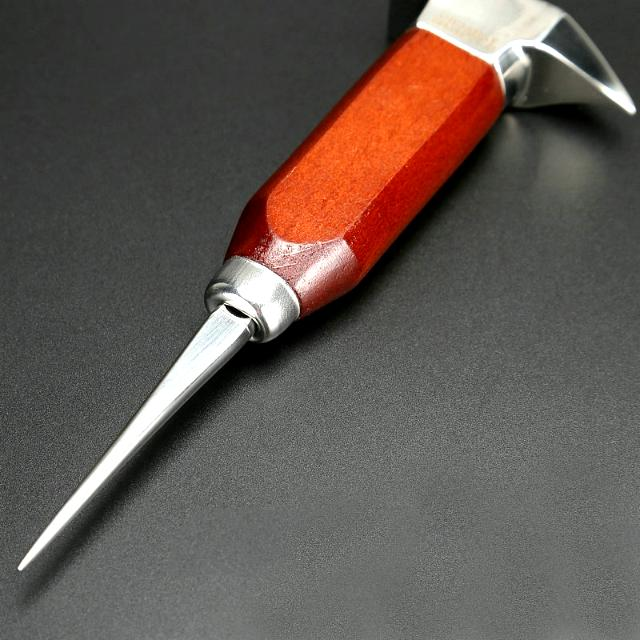ice pick: (17, 0, 636, 570)
